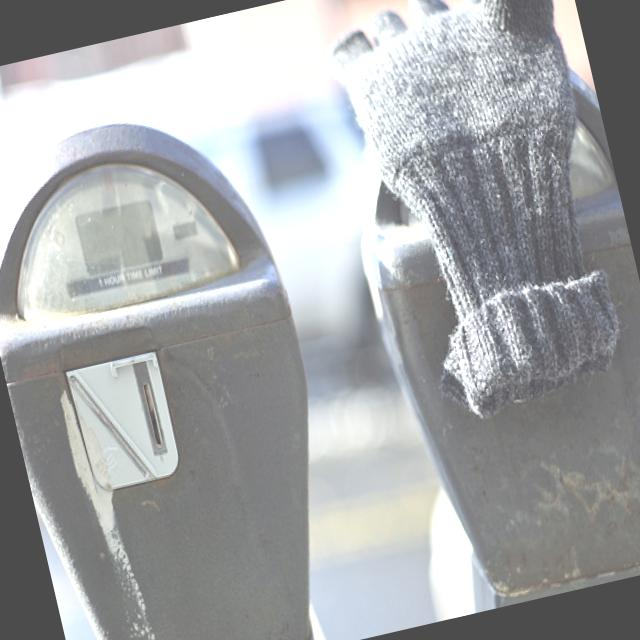Vehicle: (174, 83, 424, 424)
